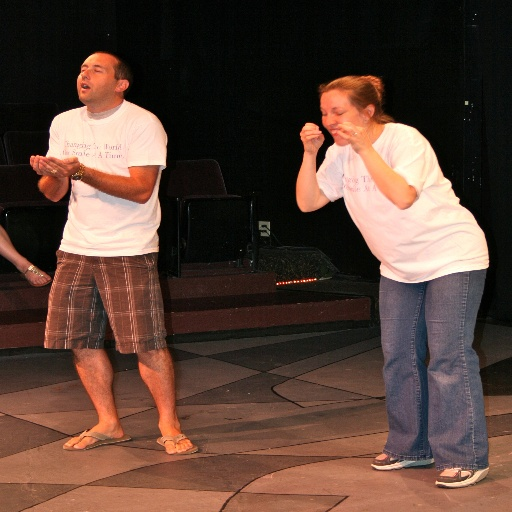hand: (19, 137, 80, 191), (336, 120, 372, 152), (299, 121, 324, 154), (27, 154, 45, 177)
